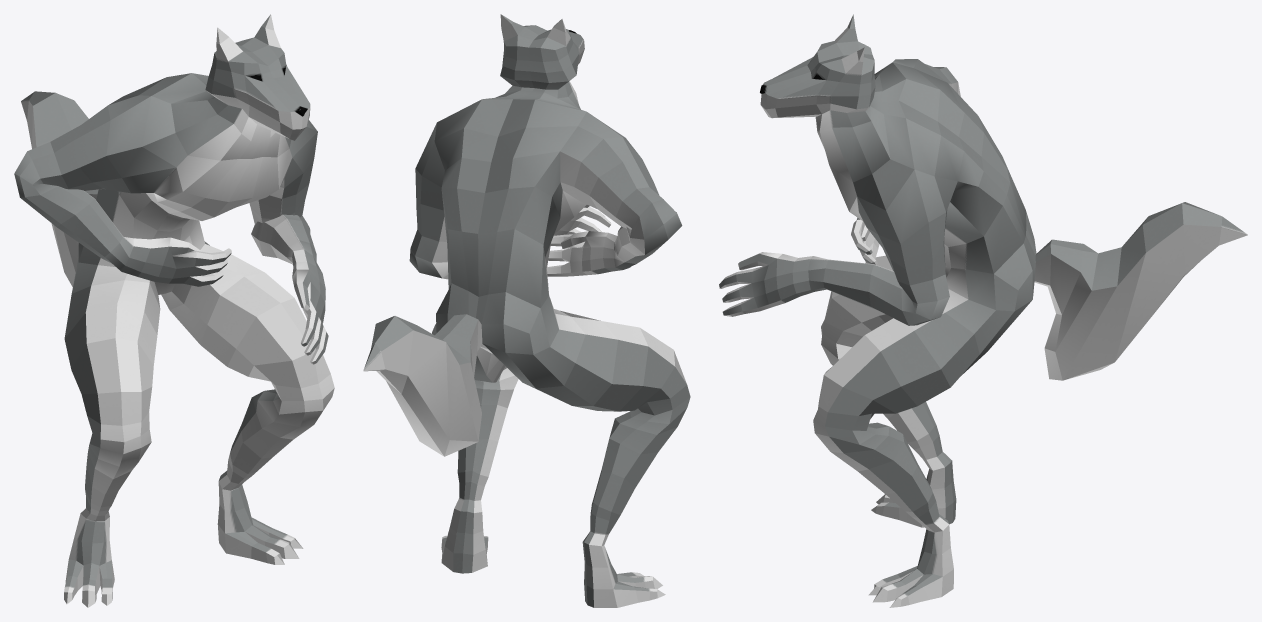
File: WolfIdle_(44).obj
The picture shows the model from 3 angles, left to right: view 1: azimuth 30°, elevation 25°; view 2: azimuth 150°, elevation 25°; view 3: azimuth 270°, elevation 25°; orthographic projection. The views are drawn at different scales.
Visible parts, largest first — view 1: Box001; view 2: Box001; view 3: Box001.
Part boxes in pixels (x1=…): Box001: x1=14, y1=14, x2=334, y2=607; Box001: x1=363, y1=14, x2=690, y2=607; Box001: x1=719, y1=14, x2=1247, y2=607.
Bounding box in the file's own units: 69.16 × 132 × 116.
